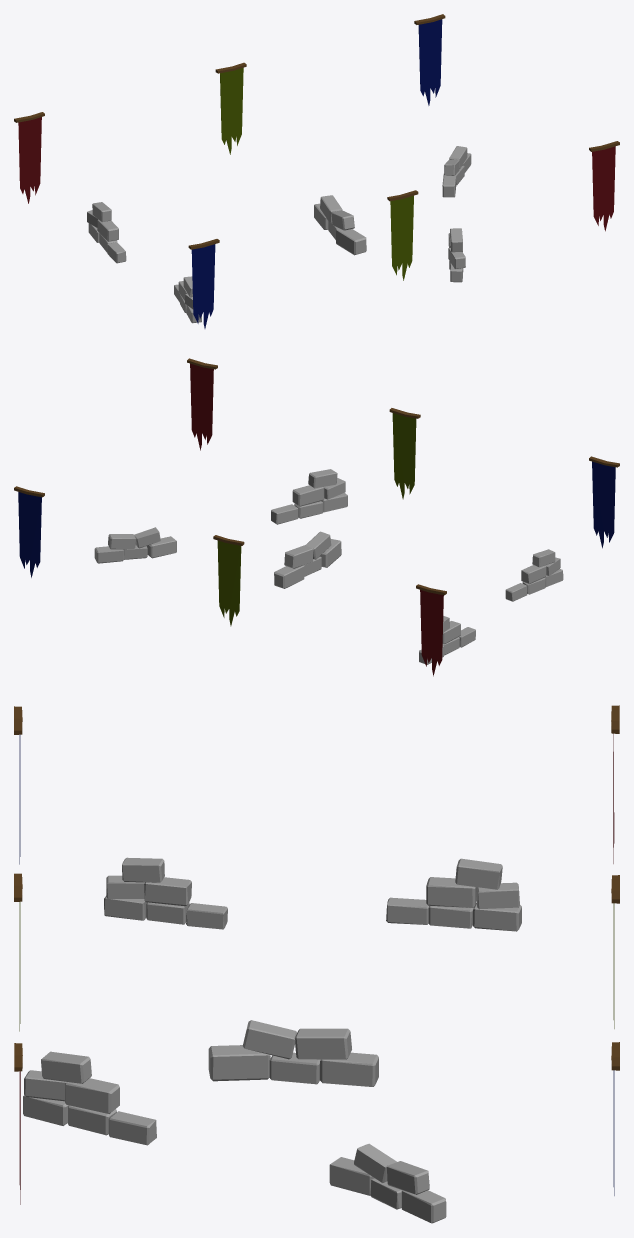
File: Map4_decor.fbx
3 views of the same model, one above another, from view 1: azimuth 30°, elevation 25°; view 2: azimuth 150°, elevation 25°; view 3: azimuth 270°, elevation 25° (orthographic). The views are drawn at different scales.
Parts seen in each view (by area): view 1: Map 2 decor; view 2: Map 2 decor; view 3: Map 2 decor.
Part boxes in pixels (x1=…): Map 2 decor: x1=14, y1=14, x2=619, y2=328; Map 2 decor: x1=14, y1=358, x2=619, y2=676; Map 2 decor: x1=14, y1=705, x2=619, y2=1223.
Size of the model in its own units: 4547 by 1057 by 3219.
